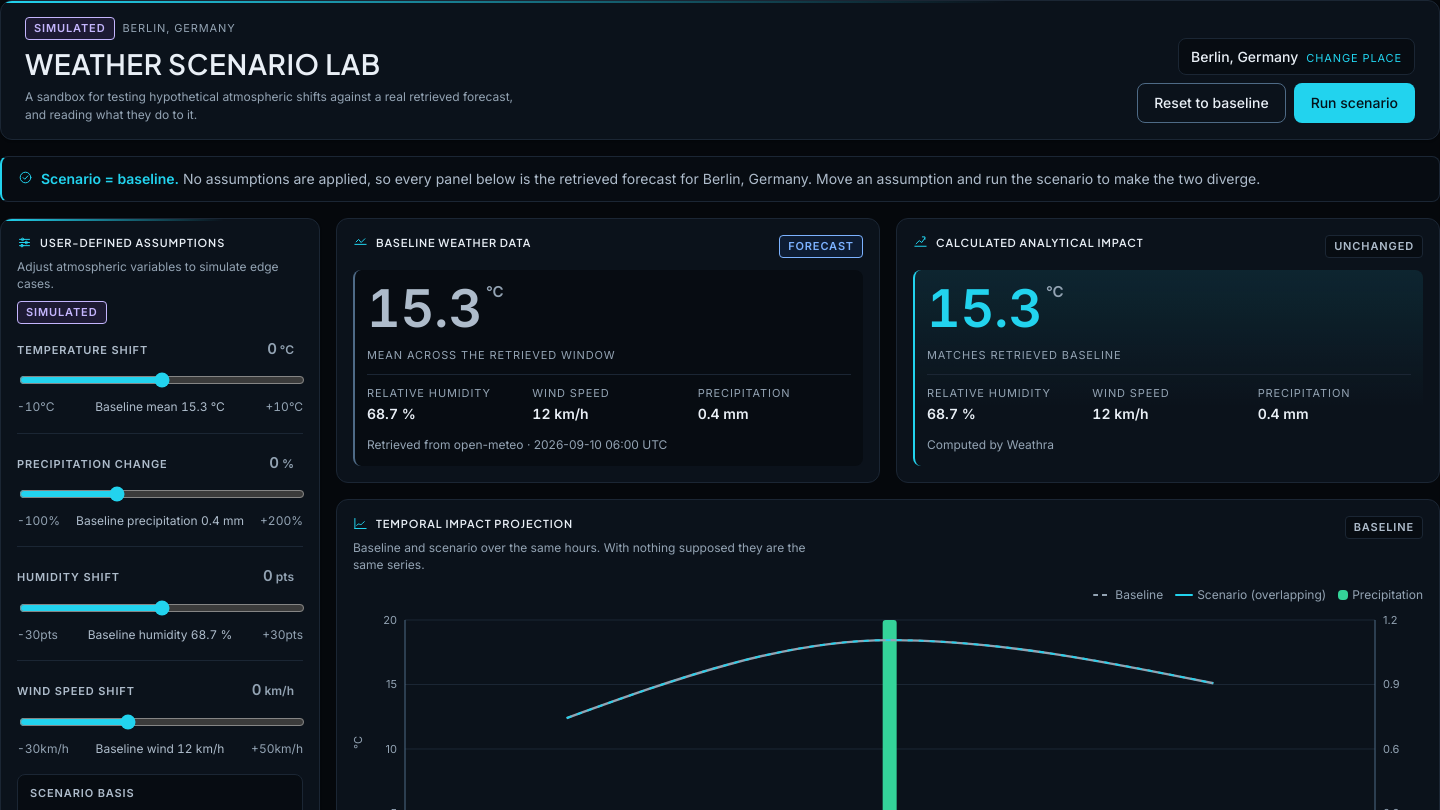
it: running a scenario › draws exactly four delta tiles, naming the ones nothing was supposed about
Expected: the heading "Temporal impact projection" is shown, [353,516,573,531]
Replace the text in the number field named "Temperature shift, exact value" with "2.5" at [252, 349], box [227,339,277,359]
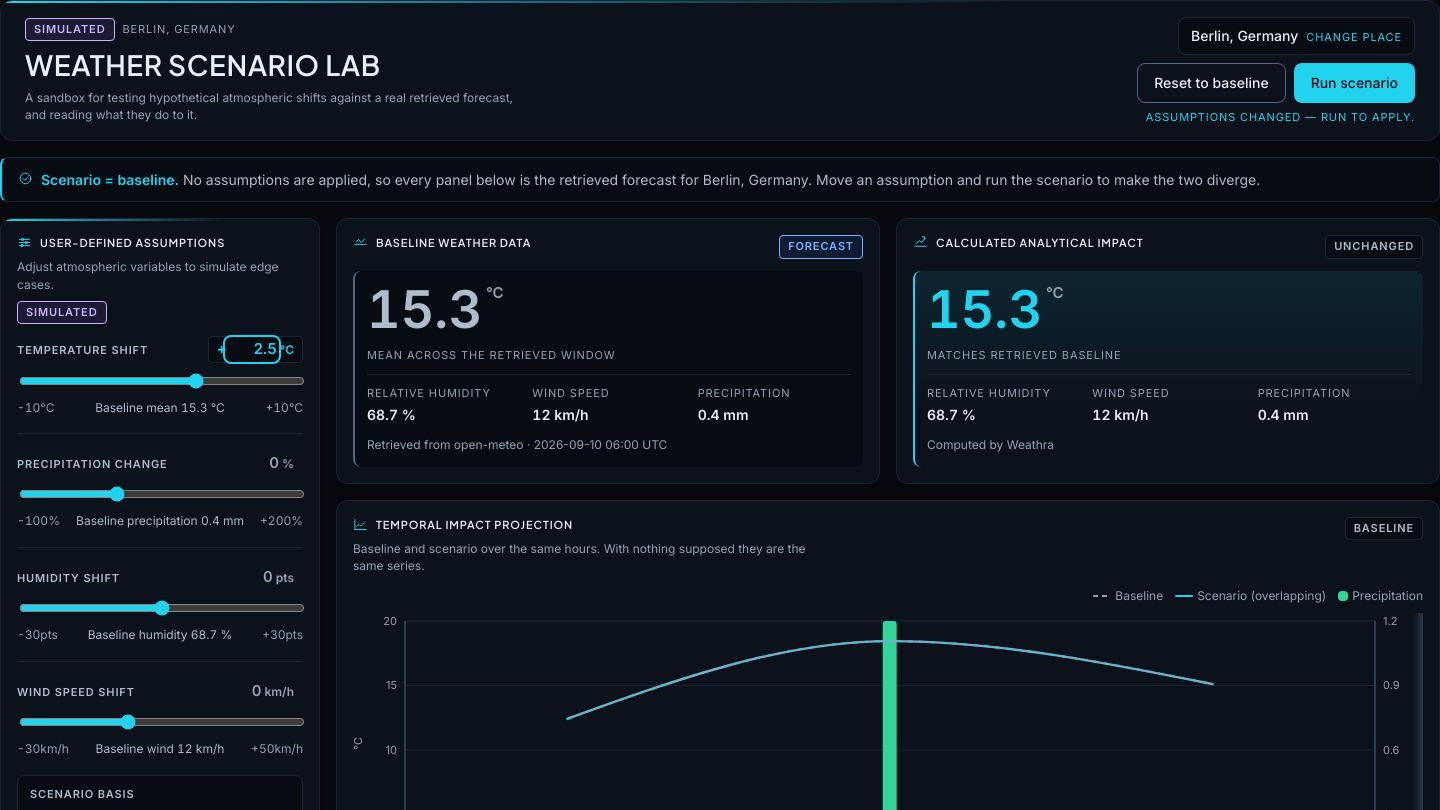
Click the button "Run scenario" at [1354, 83], box [1294,63,1415,103]
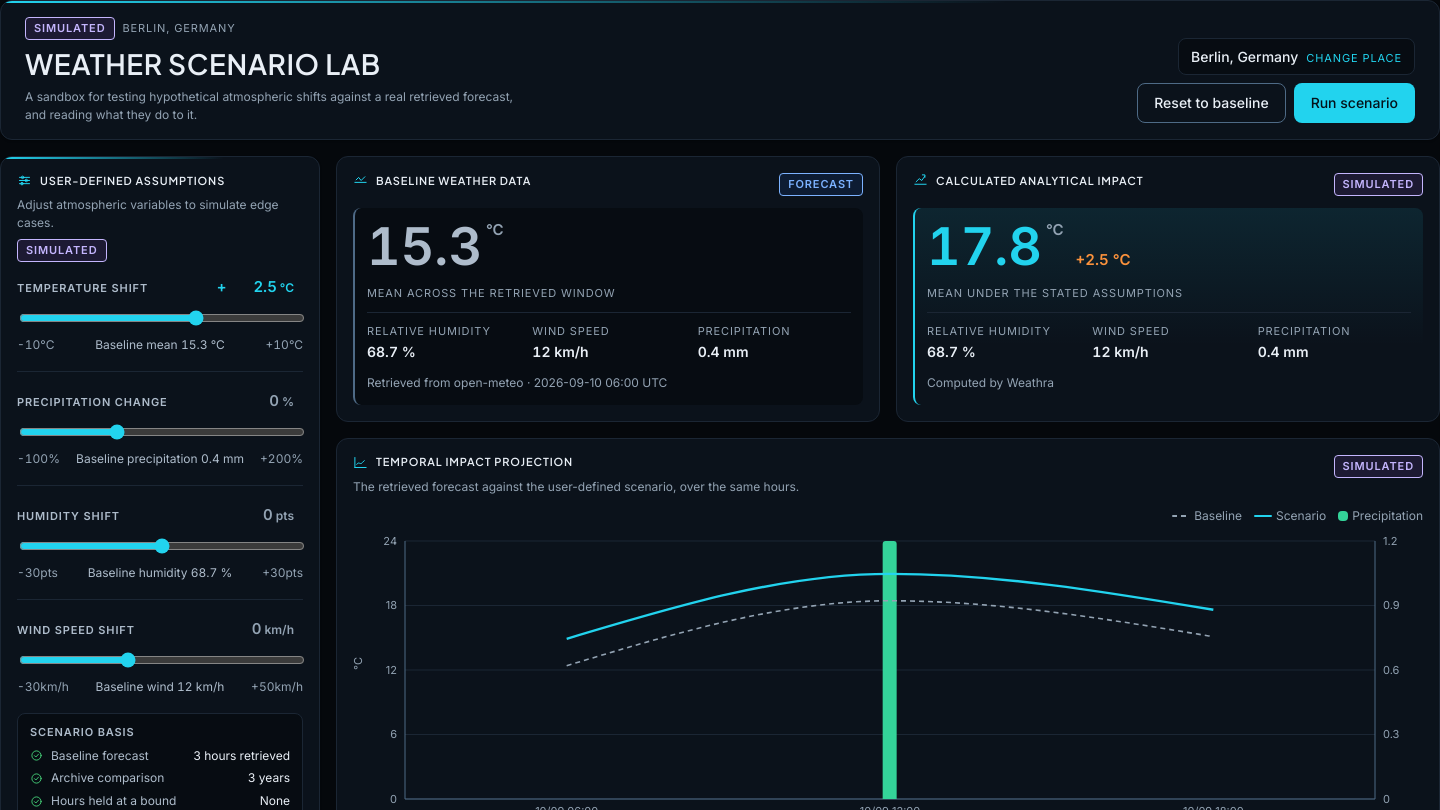
Expected: the text "+2.5 °C" is shown, [1076,248,1130,272]
